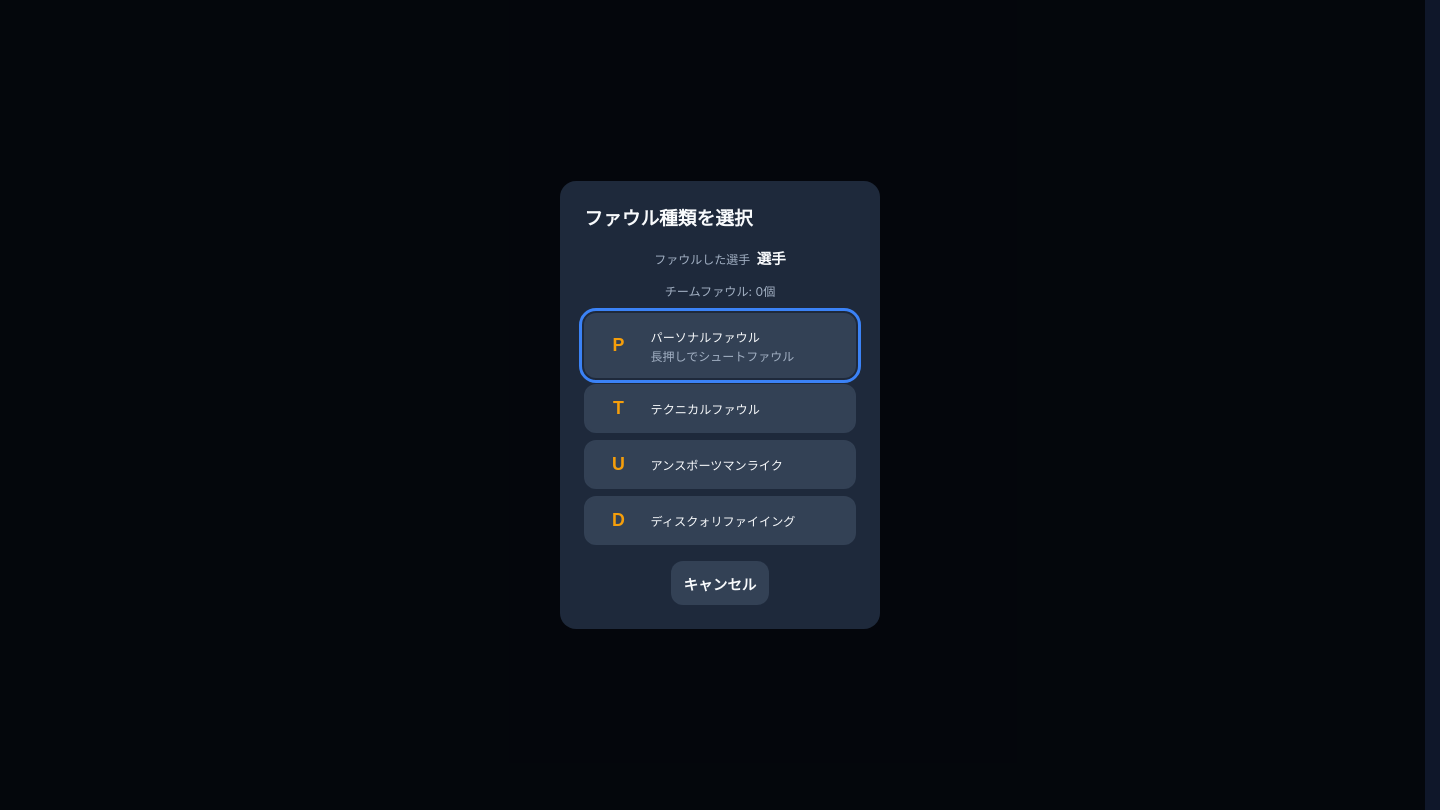
Test: ペナルティ中のFTなし › シュートファウルのシューター選択には出さない
Press the mouse on the button "P パーソナルファウル 長押しでシュートファウル": (720, 346) [584,314,856,378]
Wait 600 ms
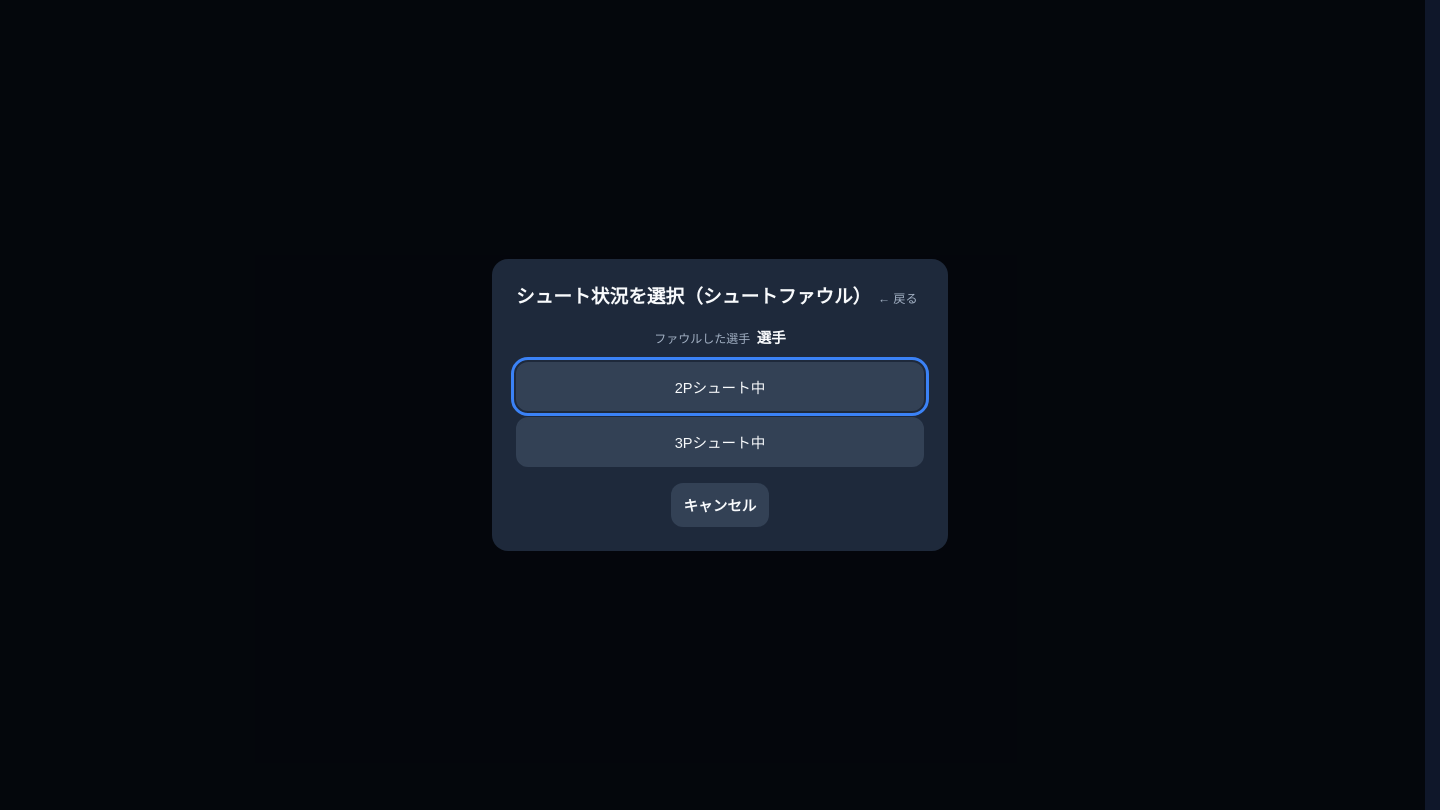
Click the button "2Pシュート中": (720, 386) [516,362,924,411]
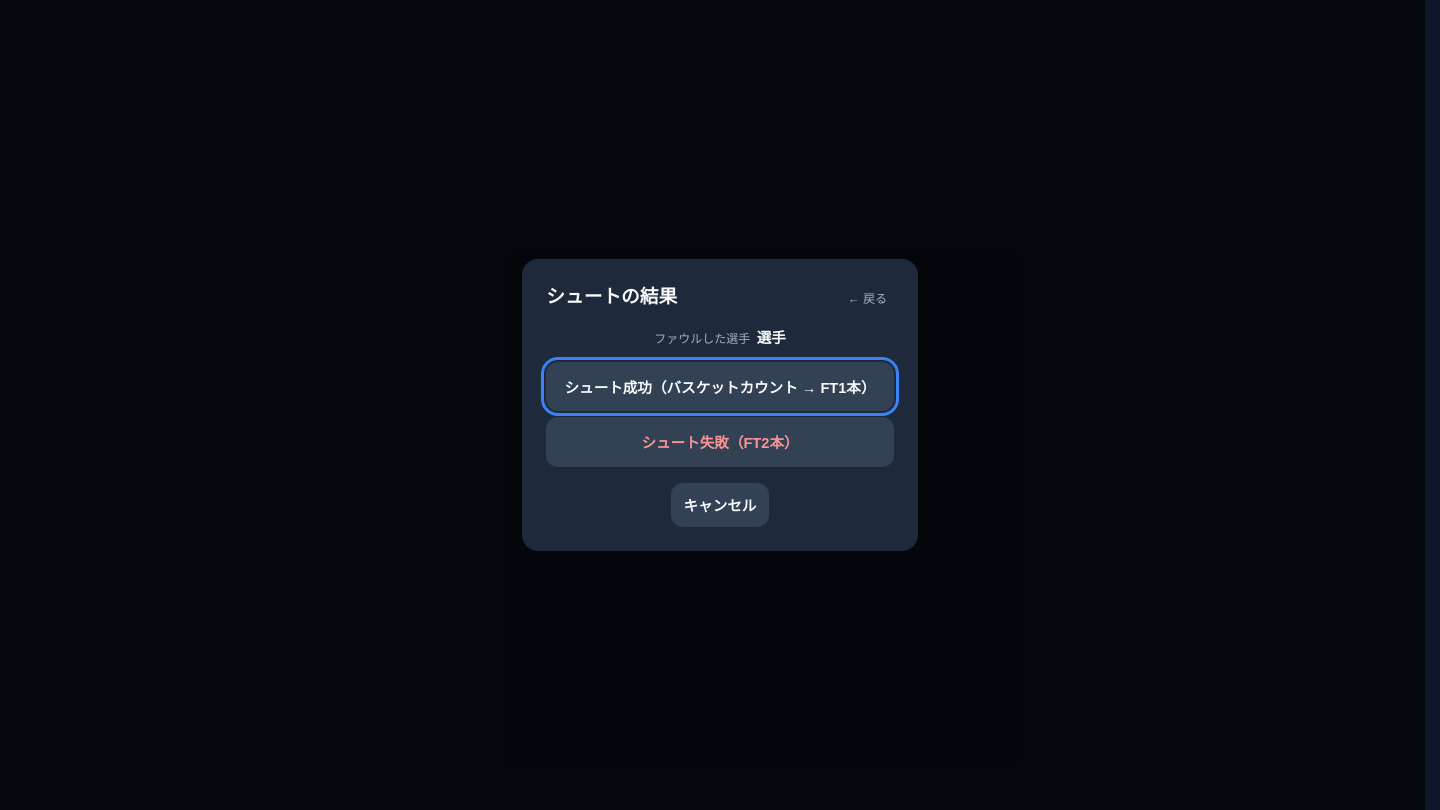
Click the button "シュート失敗（FT2本）": (720, 442) [546,417,894,467]
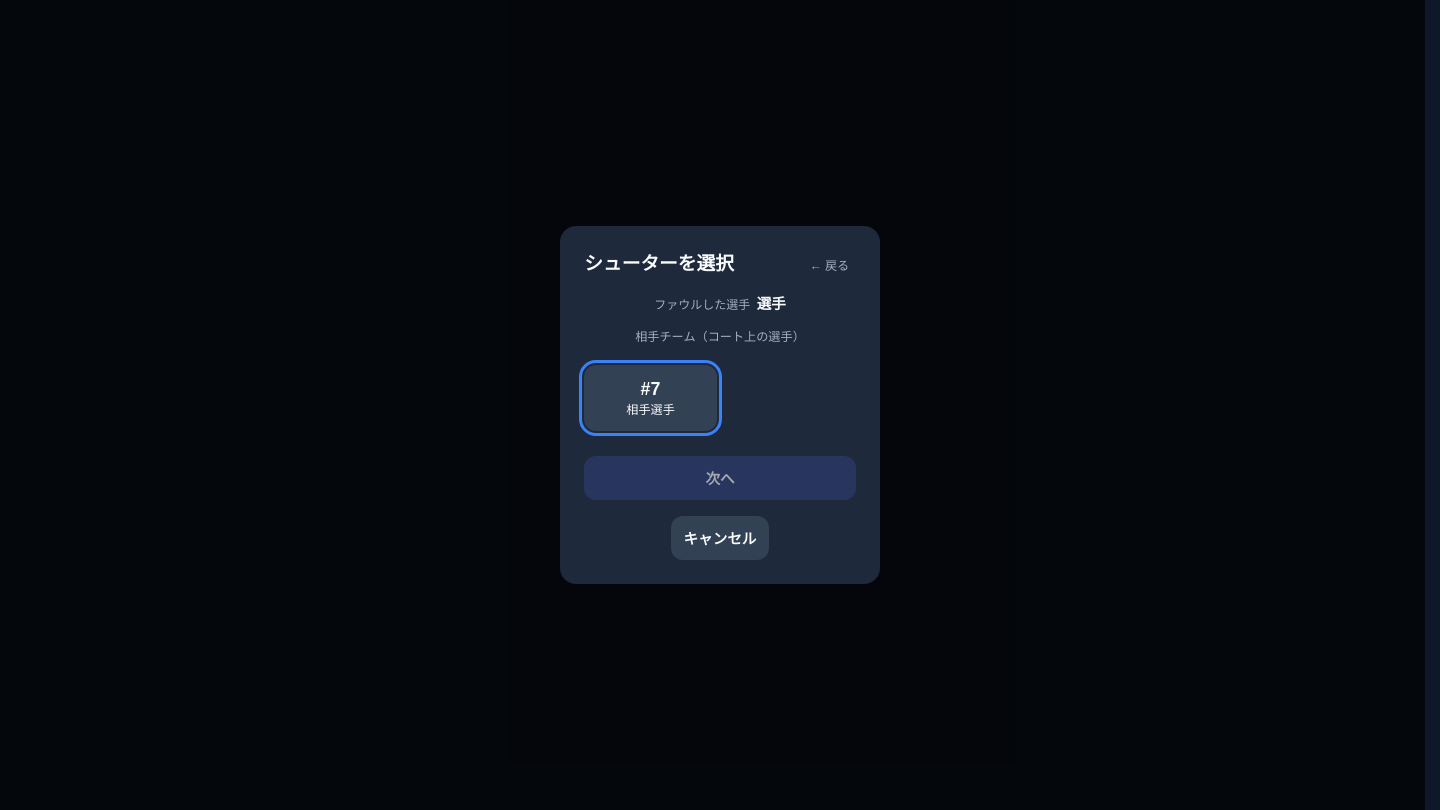
Expected: the heading "シューターを選択" is shown, [584,250,734,278]
